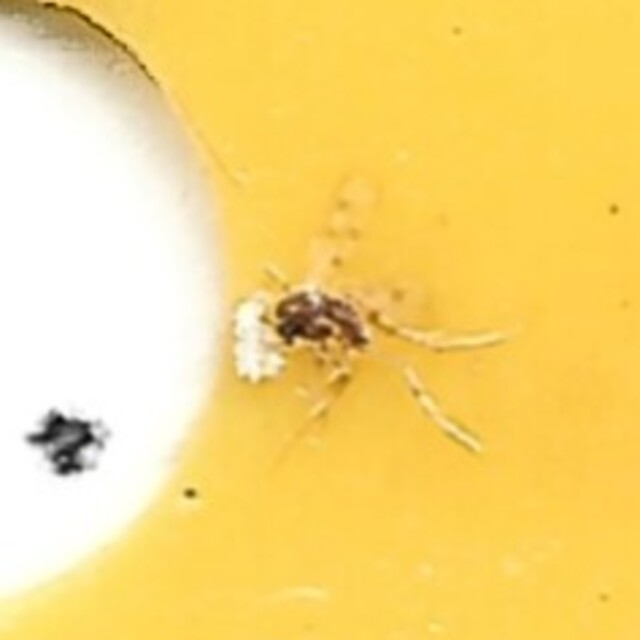Nematocera: (270, 282, 370, 358)
